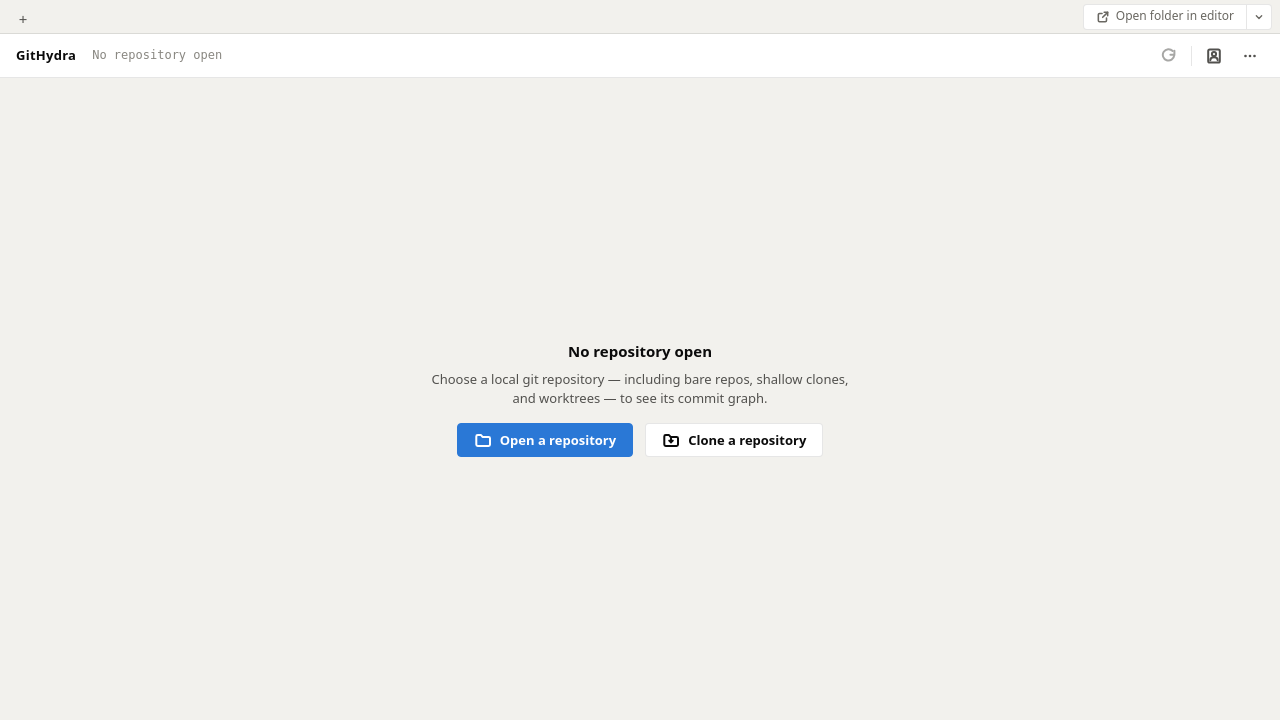
Scenario: remember-last-selected-file (specs/remember-last-selected-file.md) › AC4: a remembered file that's no longer present in the restored commit falls back to files[0], never errors
The width and height of the screenshot is (1280, 720).
Click the button "Open a repository" at (545, 440), box x1=457 y1=423 x2=633 y2=457
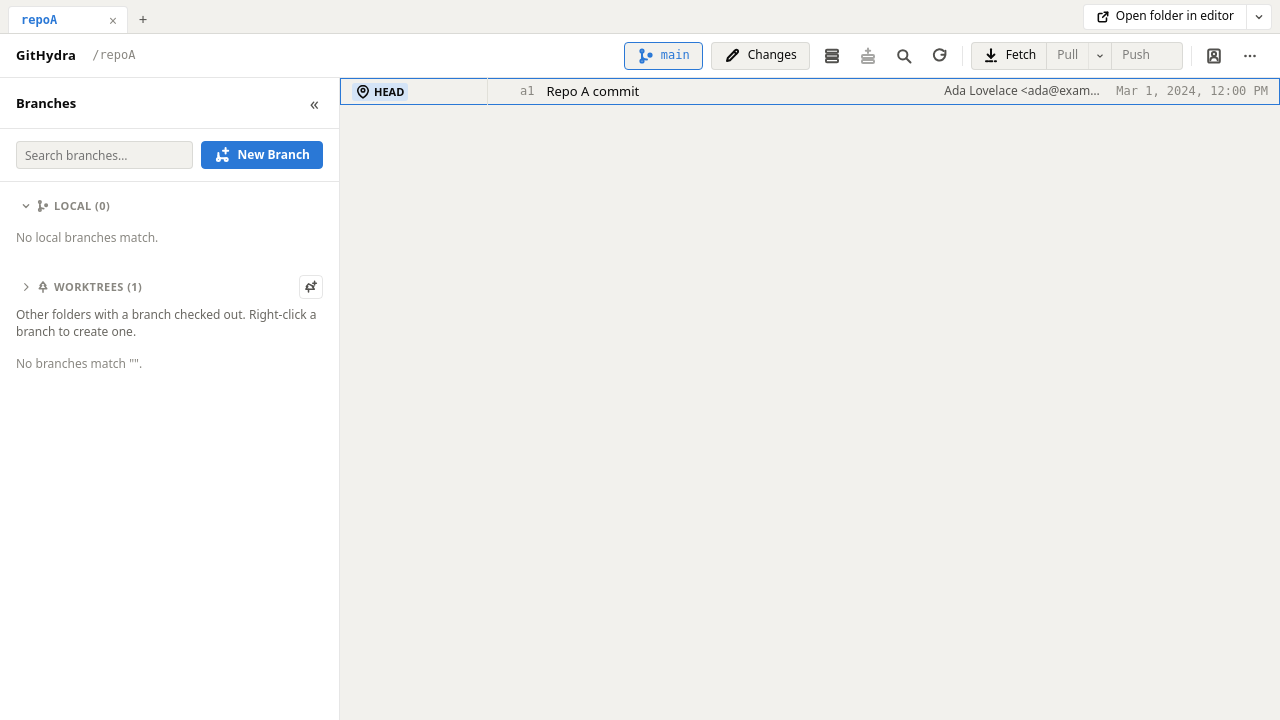
Now the text "Repo A commit" is shown
Click the text "Repo A commit" at (593, 91), box x1=546 y1=82 x2=639 y2=100
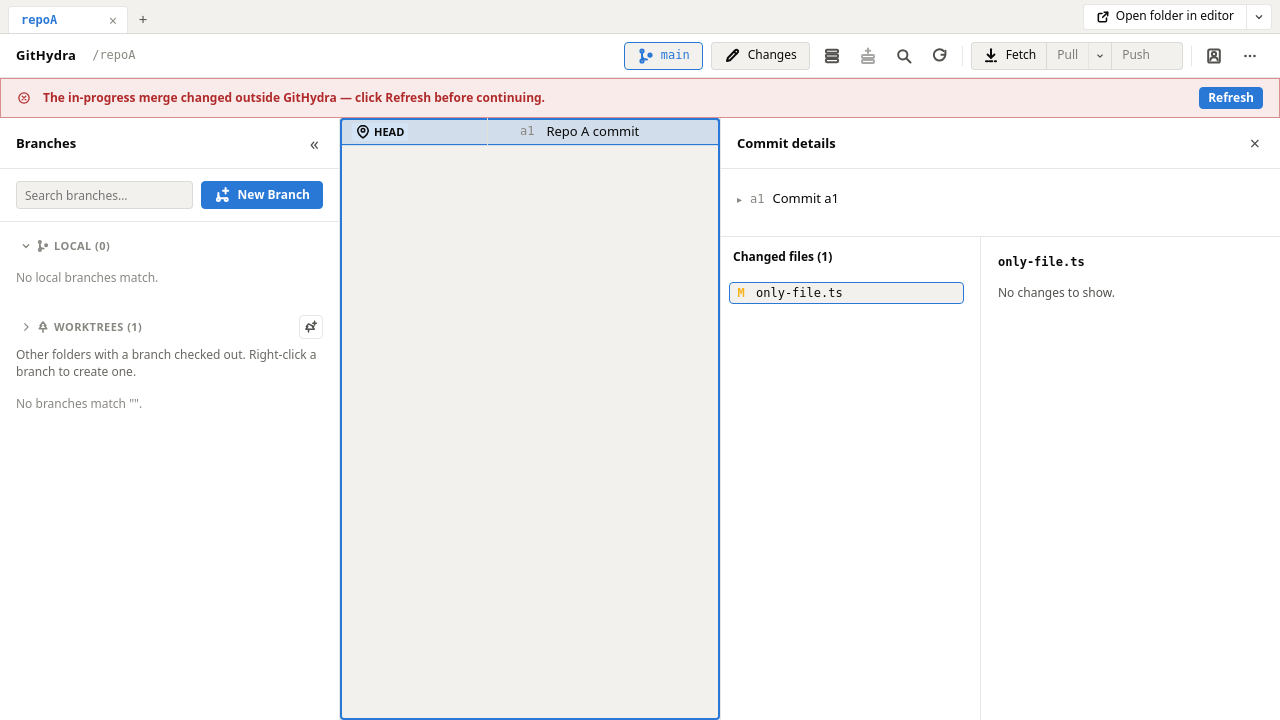
Now the button "M only-file.ts" is shown, box x1=729 y1=282 x2=964 y2=304
Now the message is shown, box x1=0 y1=78 x2=1279 y2=118
Click the button named "open a repository in a new tab" at (143, 19), box x1=130 y1=5 x2=156 y2=33
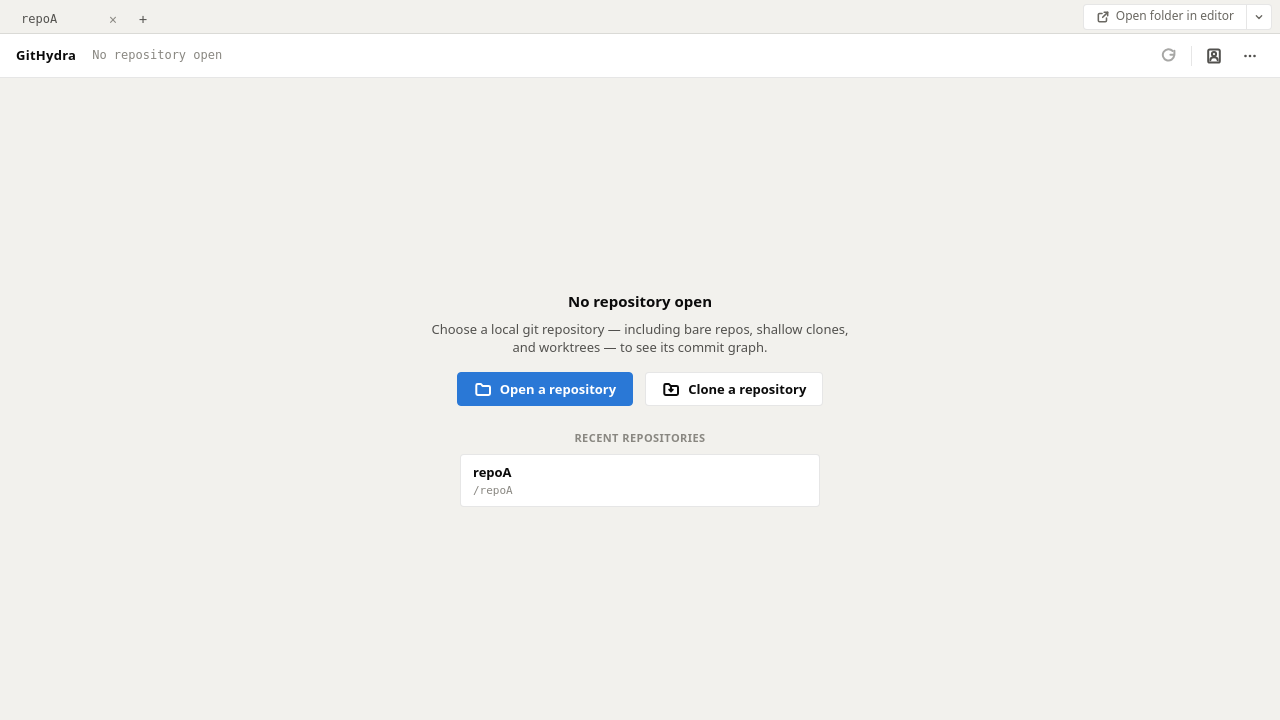
Click the button "Open a repository" at (545, 389), box x1=457 y1=372 x2=633 y2=406
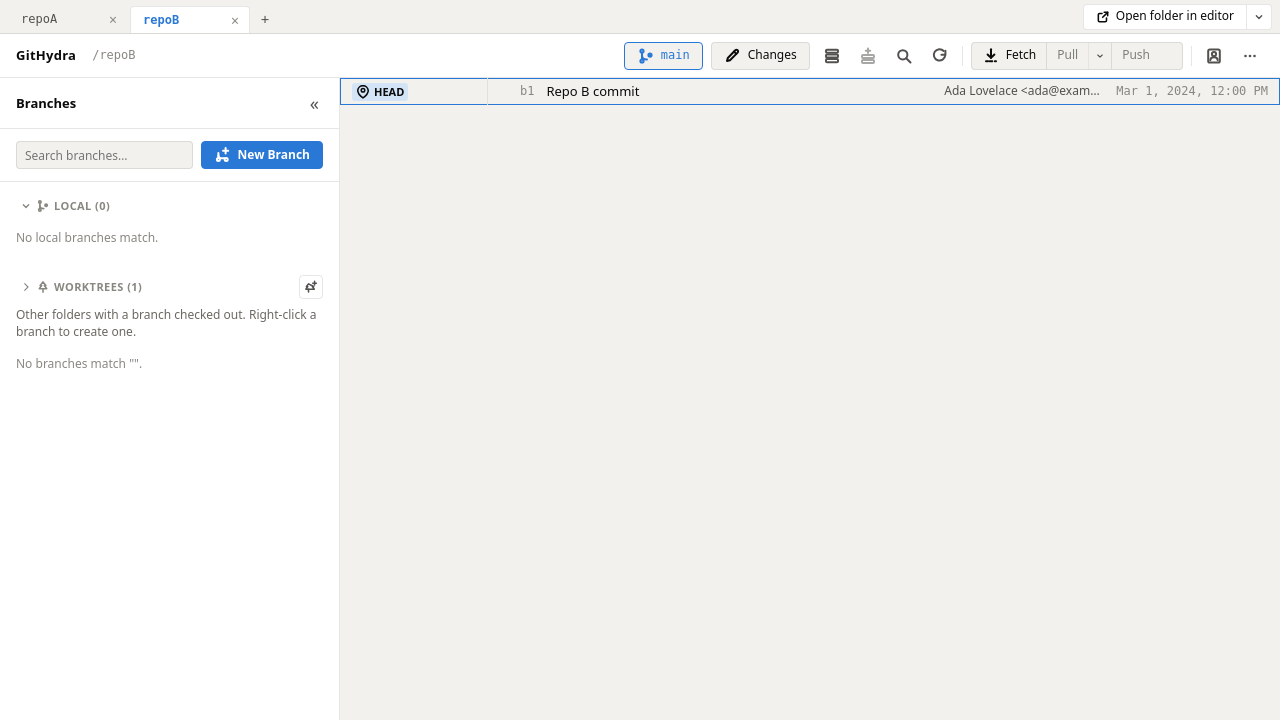
Now the text "Repo B commit" is shown, box x1=546 y1=82 x2=640 y2=100
Click the tab "repoA" at (60, 20), box x1=17 y1=11 x2=103 y2=28
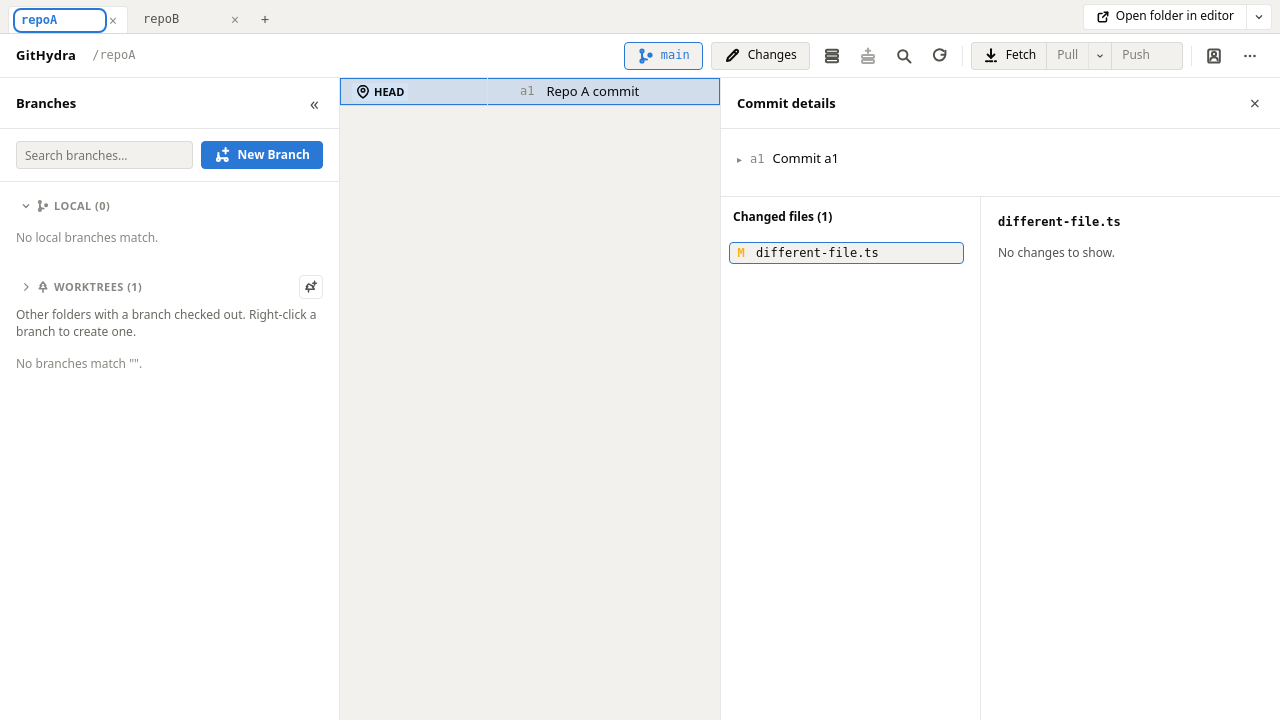
Now the text "Repo A commit" is shown, box x1=546 y1=82 x2=639 y2=100
